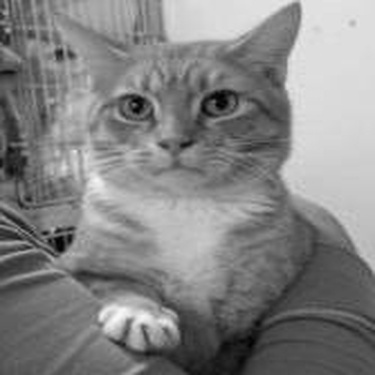cat: (41, 1, 319, 360)
